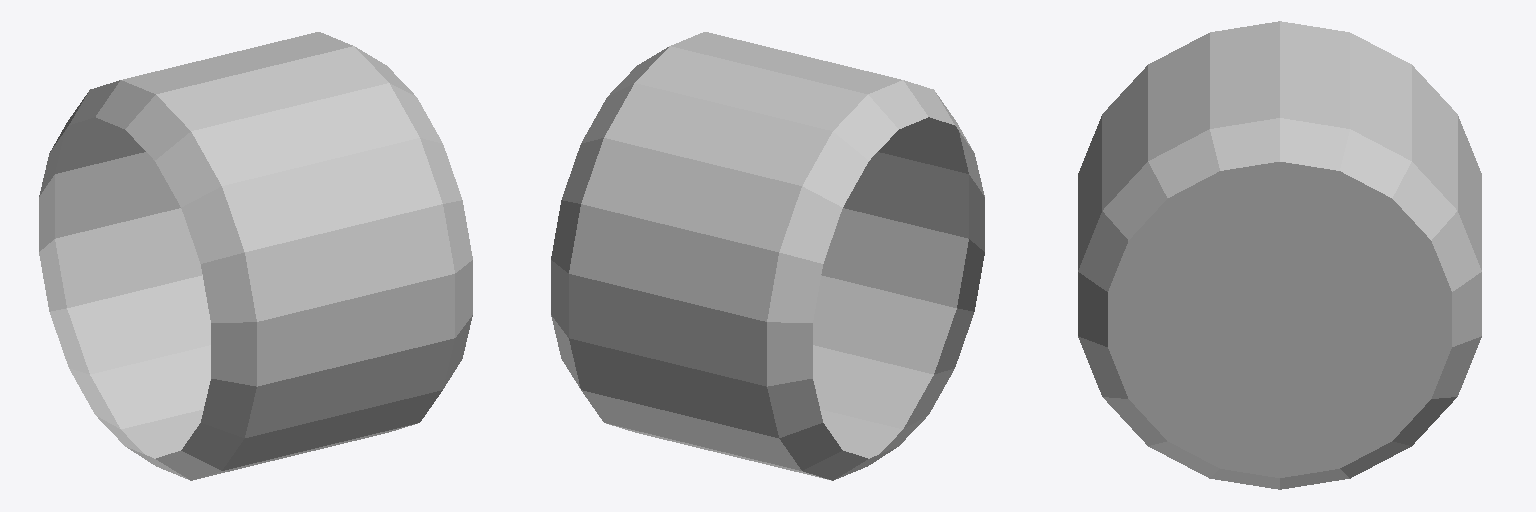
Rendered from Tire back left unwrapped.obj.
The picture shows the model from 3 angles: view 1: azimuth 30°, elevation 25°; view 2: azimuth 150°, elevation 25°; view 3: azimuth 270°, elevation 25°; orthographic projection.
Parts seen in each view (by area): view 1: CarMoonfullTireBackLeft; view 2: CarMoonfullTireBackLeft; view 3: CarMoonfullTireBackLeft.
Boxes of the visible parts, box(x1,y1,x2,y2) form: CarMoonfullTireBackLeft: box(39, 32, 472, 480); CarMoonfullTireBackLeft: box(551, 32, 984, 480); CarMoonfullTireBackLeft: box(1078, 21, 1481, 489).
Bounding box in the file's own units: 25.27 × 34.28 × 33.76.